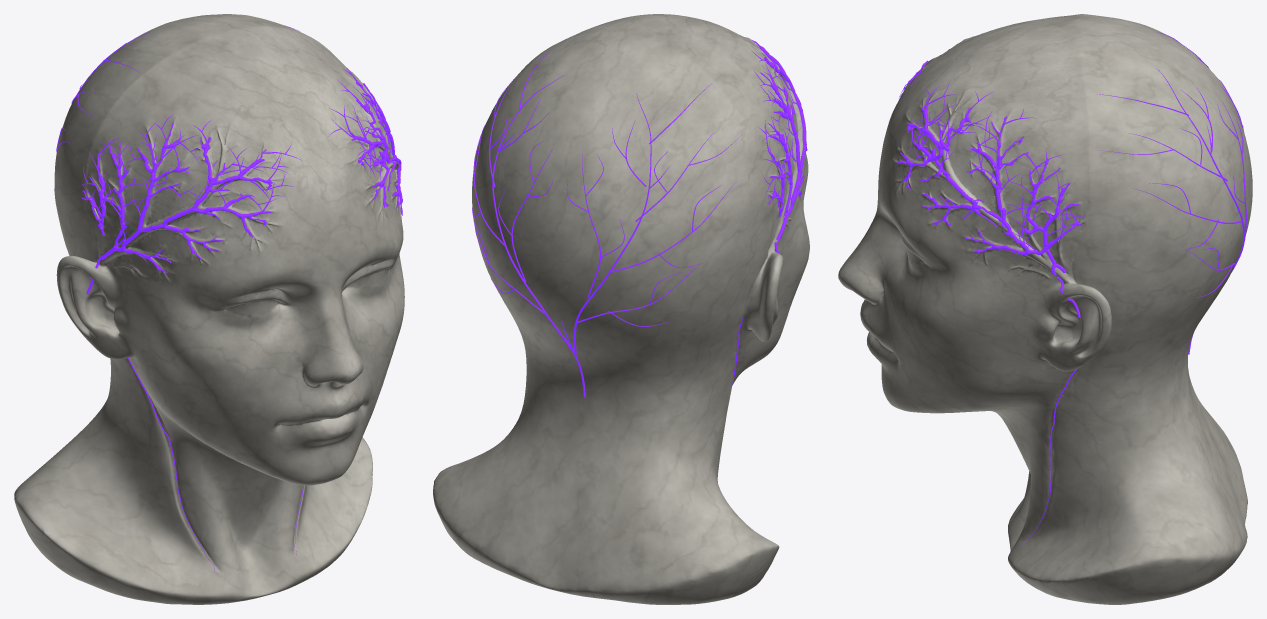
File: cymba-neural-mannequin-stone.glb
3 views of the same model, side by side, from view 1: azimuth 30°, elevation 25°; view 2: azimuth 150°, elevation 25°; view 3: azimuth 270°, elevation 25° (orthographic). The views are drawn at different scales.
Parts seen in each view (by area): view 1: Cymba_Marble_Mannequin, Purple_Surface_Nerve_Fibres; view 2: Cymba_Marble_Mannequin, Purple_Surface_Nerve_Fibres; view 3: Cymba_Marble_Mannequin, Purple_Surface_Nerve_Fibres.
Part boxes in pixels (box(x1,y1,x2,y2)): Cymba_Marble_Mannequin: box(14, 14, 404, 604); Purple_Surface_Nerve_Fibres: box(54, 25, 402, 573); Cymba_Marble_Mannequin: box(433, 14, 809, 604); Purple_Surface_Nerve_Fibres: box(472, 38, 807, 397); Cymba_Marble_Mannequin: box(838, 14, 1252, 604); Purple_Surface_Nerve_Fibres: box(895, 32, 1246, 544).
Bounding box in the file's own units: 2.74 × 4.26 × 3.04.
Materials: 2 (1 with a texture image).
